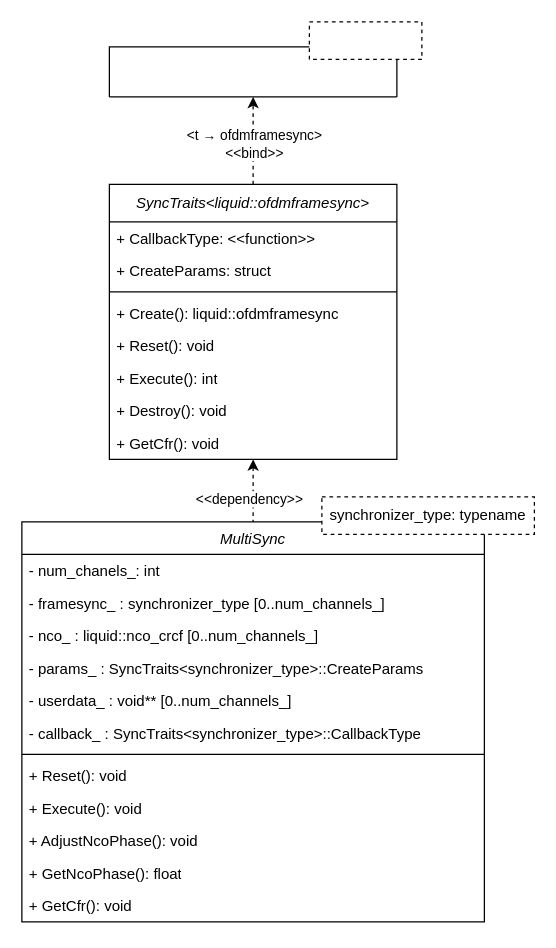
The diagram is 556 pixels wide and 948 high, and some of its shapes have lost their labels. The centre of each missing label's shape, as x and y in pixels:
<<struct>> SyncTraits: [252,71]
t: typename: [365,40]
